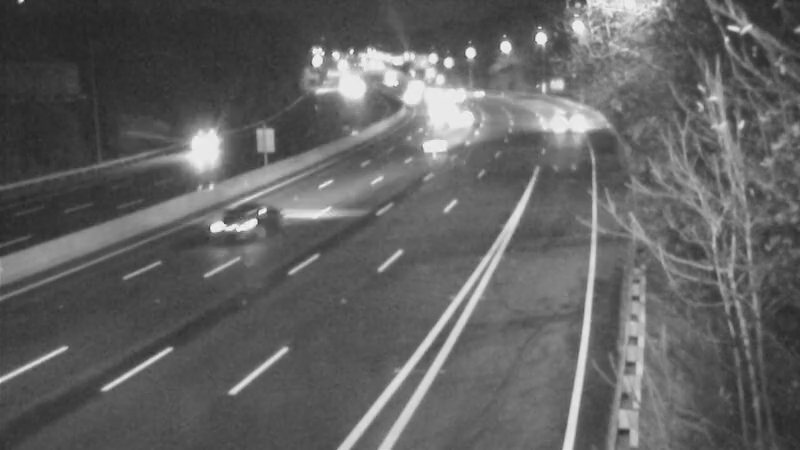vehicle: (197, 173, 277, 253), (174, 113, 254, 193), (432, 73, 482, 123), (388, 75, 438, 125), (453, 69, 503, 119), (416, 74, 466, 124), (411, 84, 461, 134), (535, 99, 585, 149), (434, 93, 484, 143), (417, 112, 467, 162)
